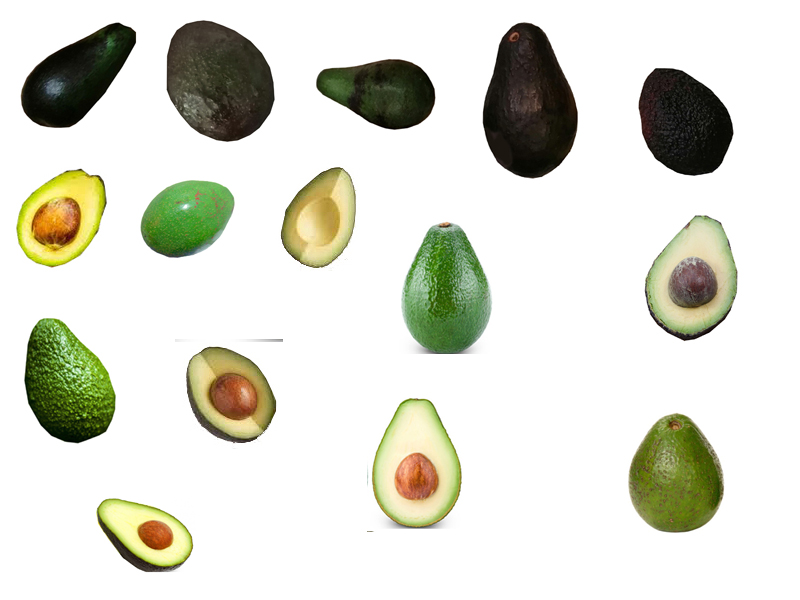avocado: (476, 19, 583, 183), (161, 19, 280, 144), (360, 394, 465, 532), (397, 218, 496, 361), (16, 22, 141, 131), (624, 406, 728, 536), (641, 211, 739, 347), (628, 60, 737, 180), (23, 316, 116, 448), (311, 44, 436, 131), (12, 164, 109, 269), (181, 344, 278, 445), (137, 170, 237, 262), (96, 494, 197, 578), (280, 164, 358, 271)
